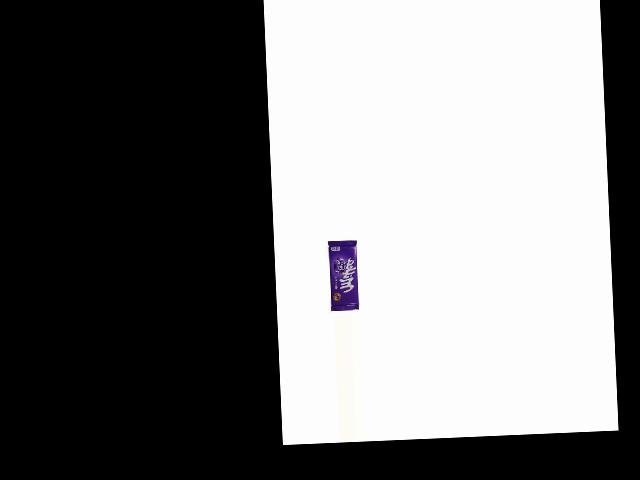chocolate: (324, 236, 360, 311)
